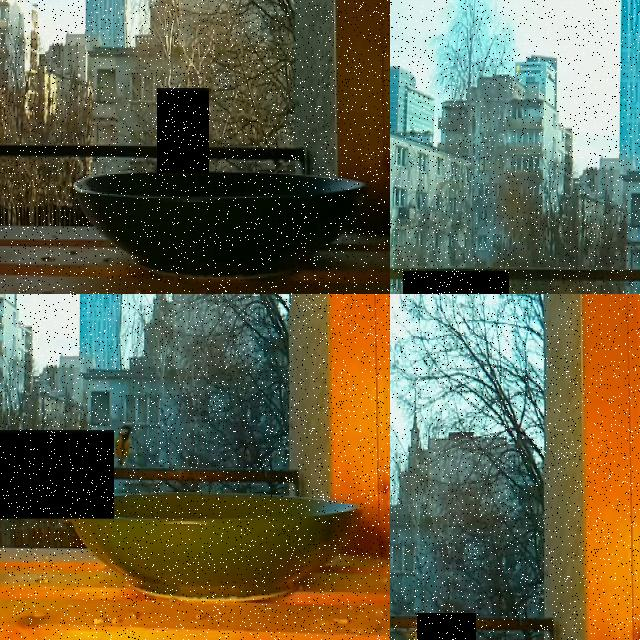Modraszka: (0, 430, 114, 518), (157, 89, 209, 172), (403, 271, 509, 294), (417, 613, 476, 640)
